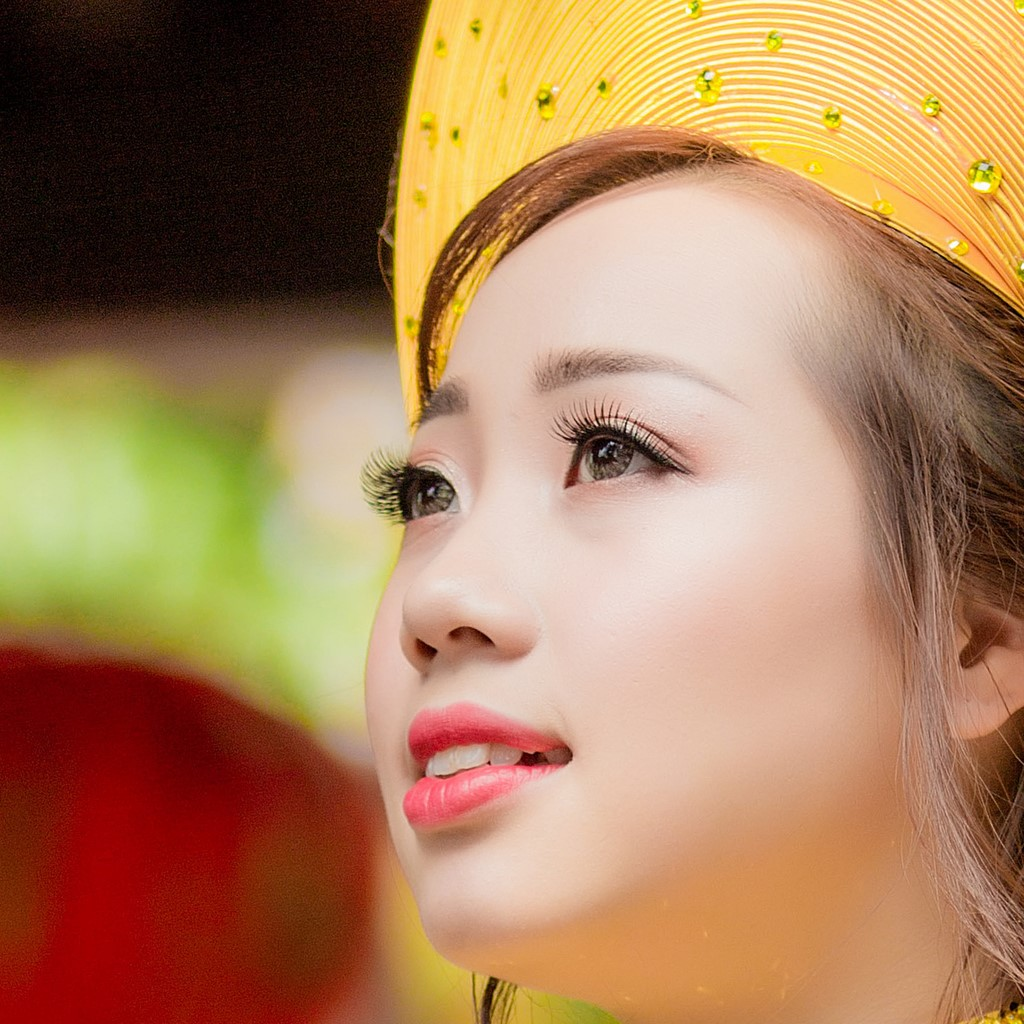sin_mascara: (354, 154, 1024, 990)
